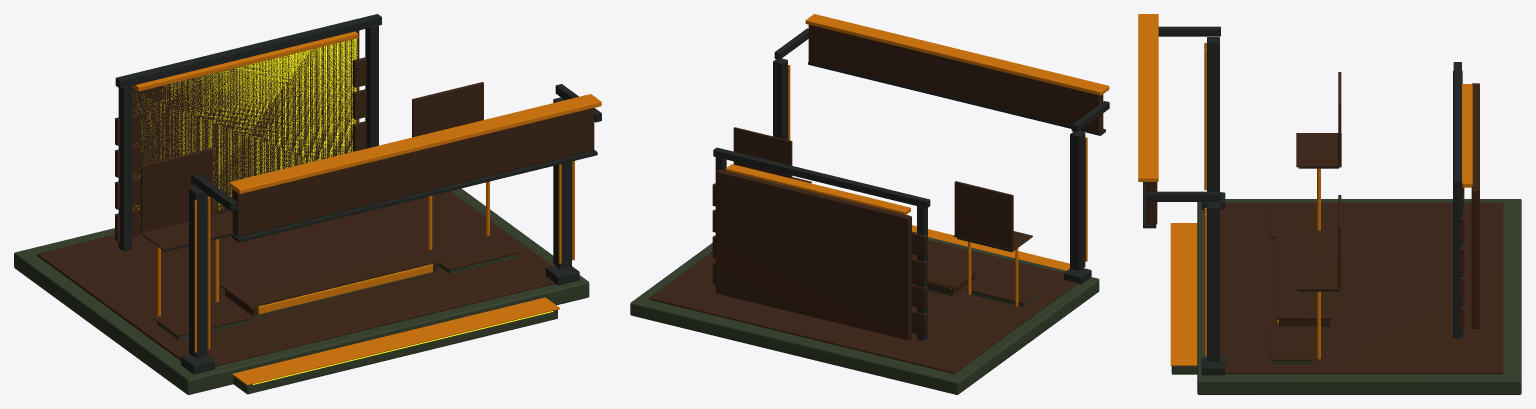
File: ecovita_coffee_v2.glb
3 renders of one model, left to right at view 1: azimuth 30°, elevation 25°; view 2: azimuth 150°, elevation 25°; view 3: azimuth 270°, elevation 25°, orthographic. The views are drawn at different scales.
Parts seen in each view (by area): view 1: ecovita_coffee_v2; view 2: ecovita_coffee_v2; view 3: ecovita_coffee_v2.
Boxes of the visible parts, box(x1,y1,x2,y2) form: ecovita_coffee_v2: box(14, 14, 601, 394); ecovita_coffee_v2: box(630, 14, 1109, 394); ecovita_coffee_v2: box(1138, 14, 1521, 394).
Bounding box in the file's own units: 7.24 × 3.86 × 6.43.
